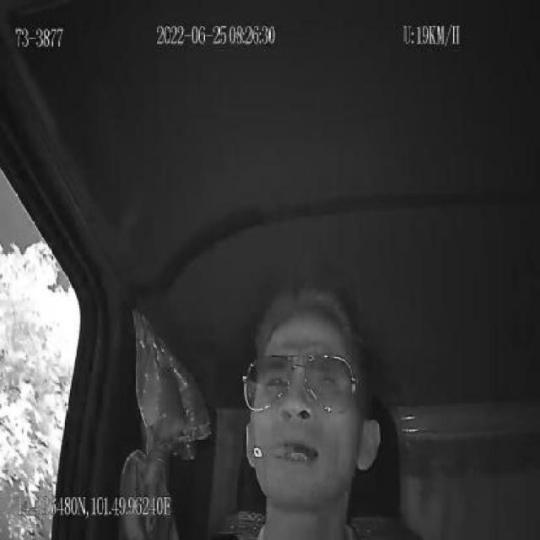smoking: (252, 440, 293, 464)
